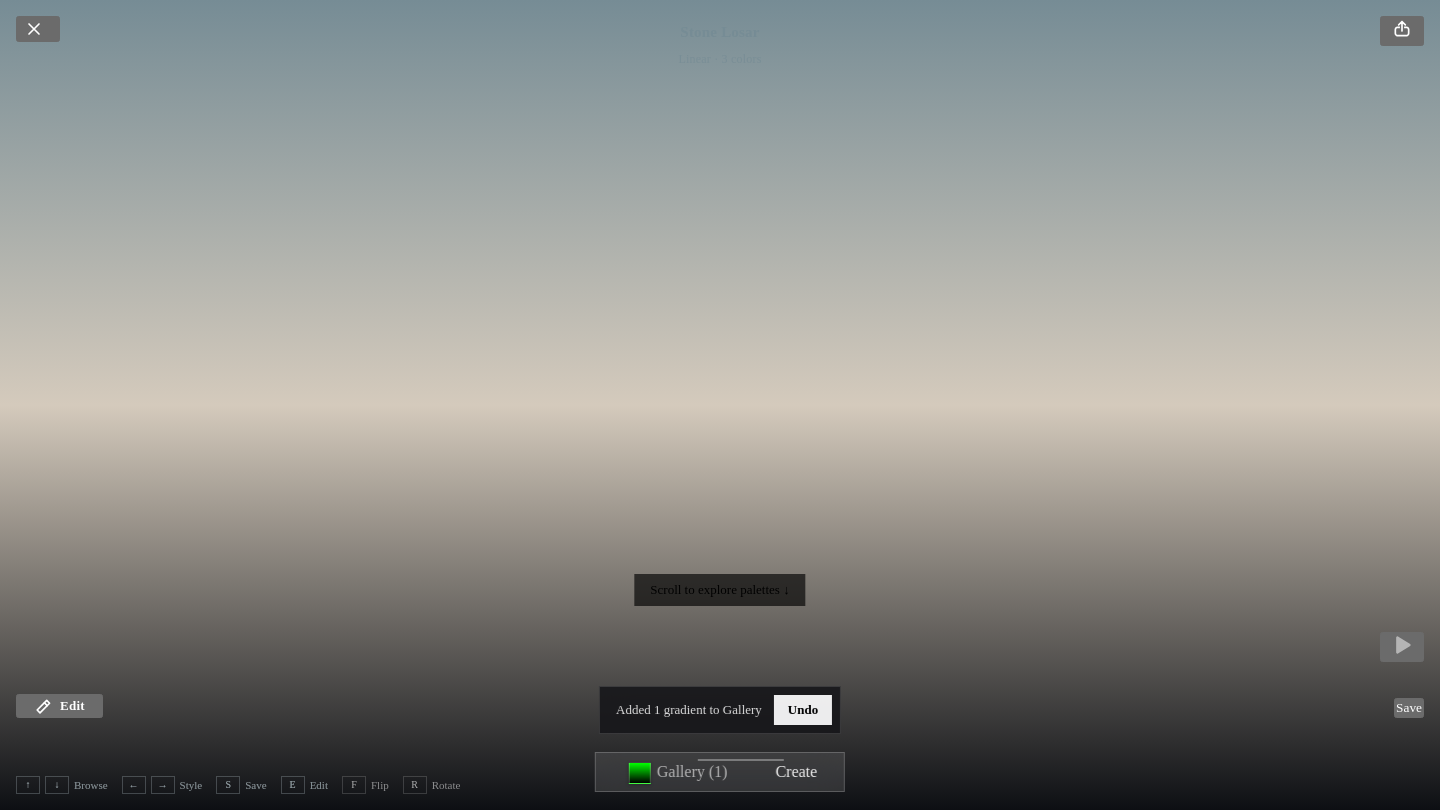
App import flow › undo removes the just-imported gradient
The width and height of the screenshot is (1440, 810).
Click the button with test id "undo-import": {"x": 803, "y": 710} [774,695,832,725]
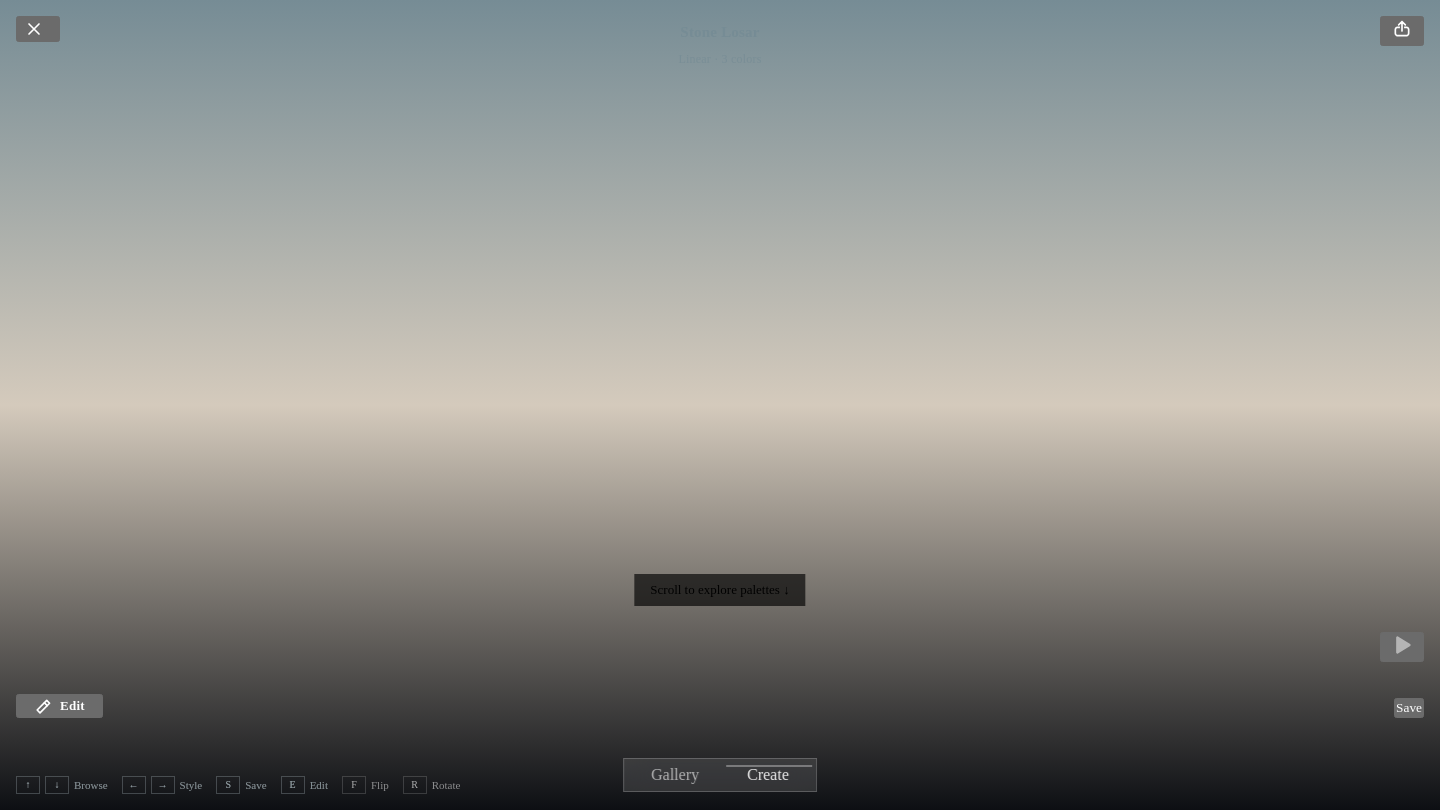
expect the message with test id "undo-toast" is gone: met
